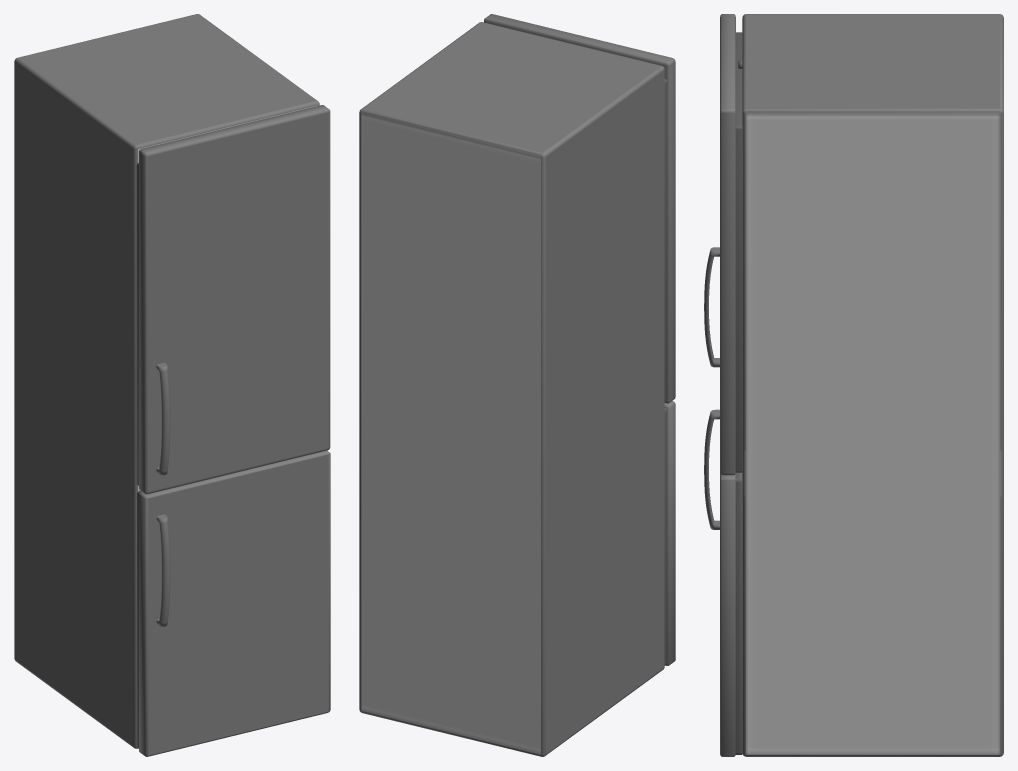
File: refrigerator.fbx
The picture shows the model from 3 angles, left to right: view 1: azimuth 30°, elevation 25°; view 2: azimuth 150°, elevation 25°; view 3: azimuth 270°, elevation 25°; orthographic projection. The views are drawn at different scales.
Visible parts, largest first — view 1: refrigerator.001_refrigerator_0, door refrigerator.002_glass_0, handle refrigerator.001_refrigerator_0; view 2: refrigerator.001_refrigerator_0, door refrigerator.002_glass_0, handle refrigerator.001_refrigerator_0; view 3: refrigerator.001_refrigerator_0, door refrigerator.002_glass_0, handle refrigerator.001_refrigerator_0.
Part boxes in pixels (x1=…): refrigerator.001_refrigerator_0: x1=14, y1=14, x2=319, y2=748; door refrigerator.002_glass_0: x1=136, y1=105, x2=330, y2=494; handle refrigerator.001_refrigerator_0: x1=137, y1=450, x2=330, y2=756; refrigerator.001_refrigerator_0: x1=359, y1=22, x2=664, y2=756; door refrigerator.002_glass_0: x1=484, y1=14, x2=675, y2=403; handle refrigerator.001_refrigerator_0: x1=664, y1=401, x2=675, y2=665; refrigerator.001_refrigerator_0: x1=738, y1=14, x2=1003, y2=756; door refrigerator.002_glass_0: x1=704, y1=14, x2=742, y2=475; handle refrigerator.001_refrigerator_0: x1=704, y1=409, x2=742, y2=756.
Bounding box in the file's own units: 0.655 × 2.03 × 0.8518.
2 materials, 1 textured.
